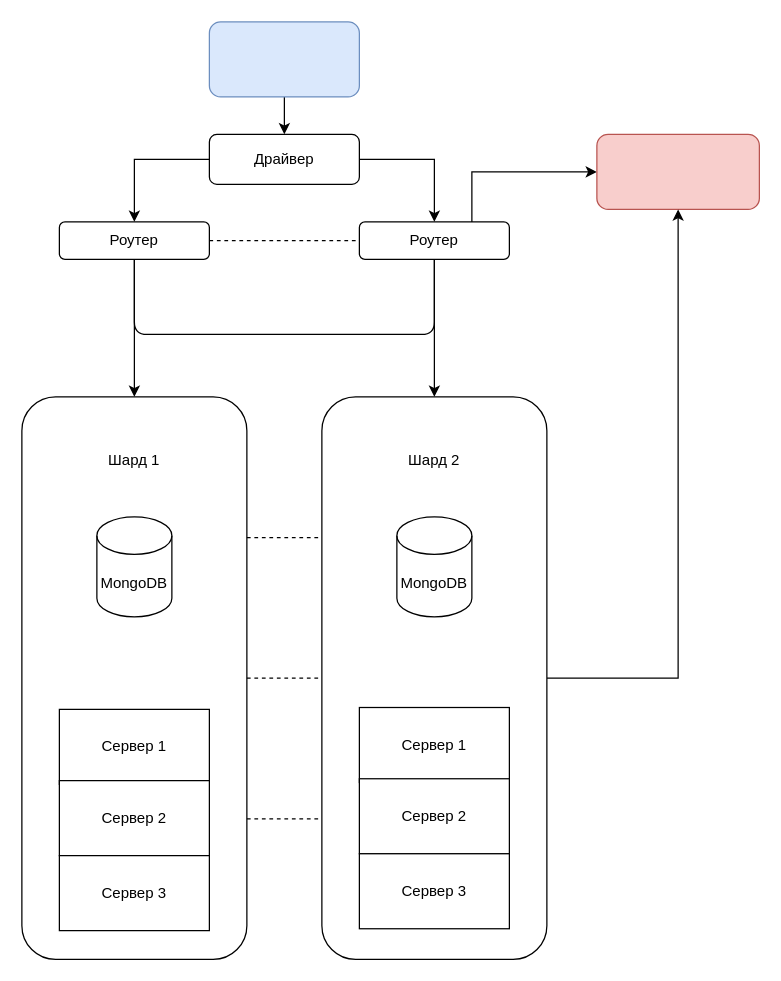
The diagram is 781 pixels wide and 981 high, and some of its shapes have lost their labels. Each missing label, with the centre of its shape:
pymongo-api: pixel 283 59
Конфигурационный сервер: pixel 677 171
